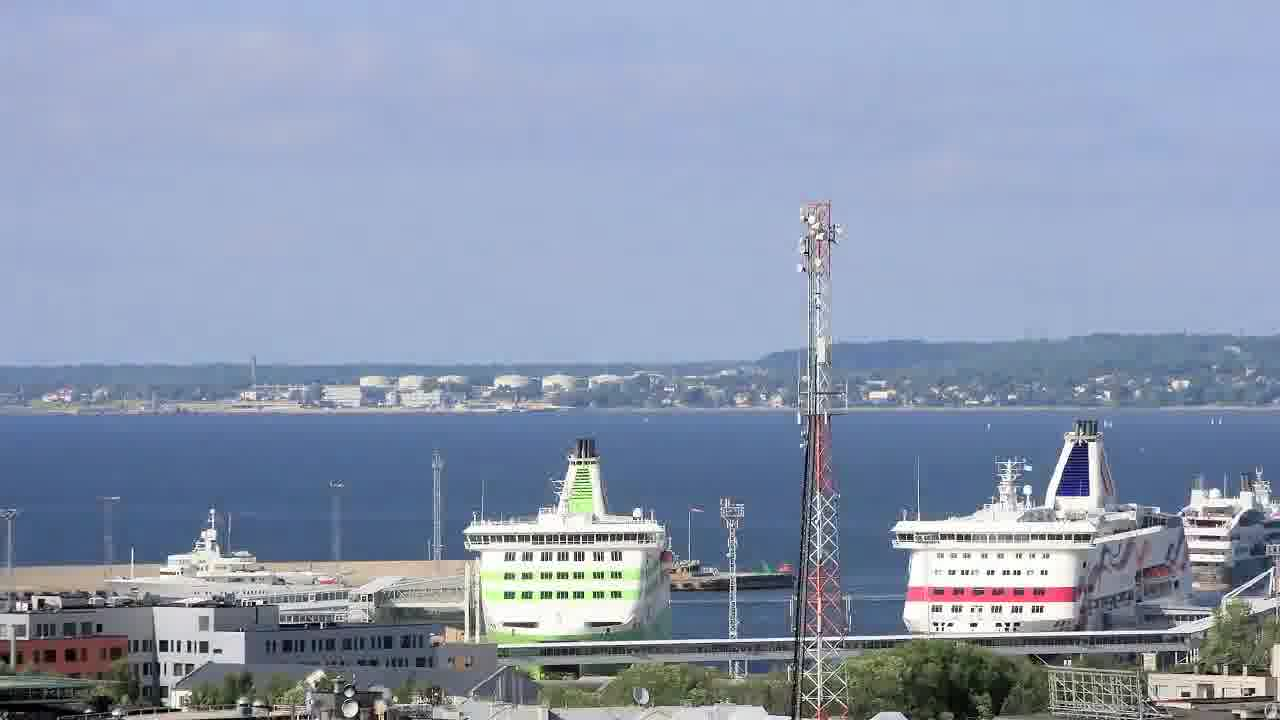type-3: (868, 415, 1225, 638), (436, 434, 694, 670), (74, 506, 368, 624), (1141, 467, 1279, 607)
